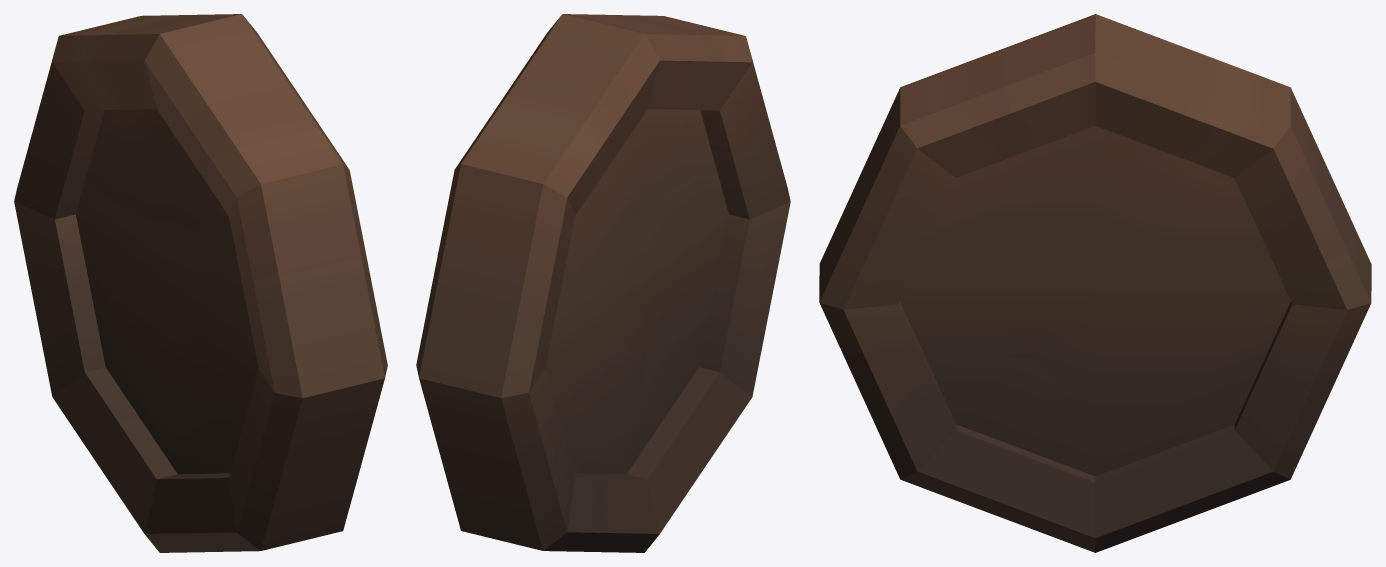
Rendered from CarWheel.fbx.
3 renders of one model, left to right at view 1: azimuth 30°, elevation 25°; view 2: azimuth 150°, elevation 25°; view 3: azimuth 270°, elevation 25°, orthographic. The views are drawn at different scales.
Visible parts, largest first — view 1: Cube.007; view 2: Cube.007; view 3: Cube.007.
Boxes of the visible parts, box(x1,y1,x2,y2) form: Cube.007: box(14, 14, 387, 552); Cube.007: box(416, 14, 790, 552); Cube.007: box(819, 14, 1371, 552).
Size of the model in its own units: 29.95 by 131 by 131.
